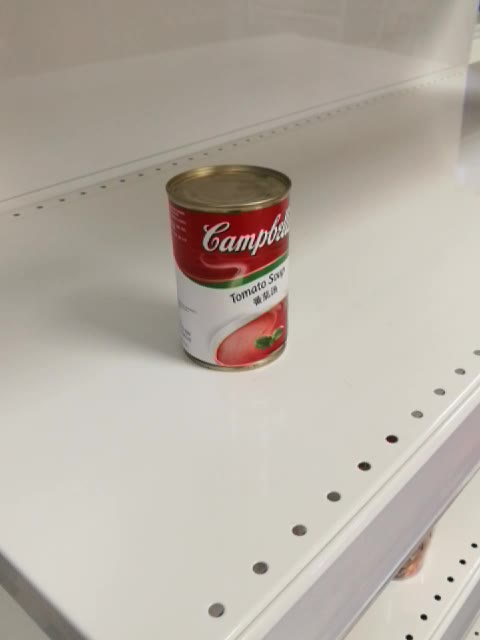tomatosoup: (166, 163, 292, 372)
